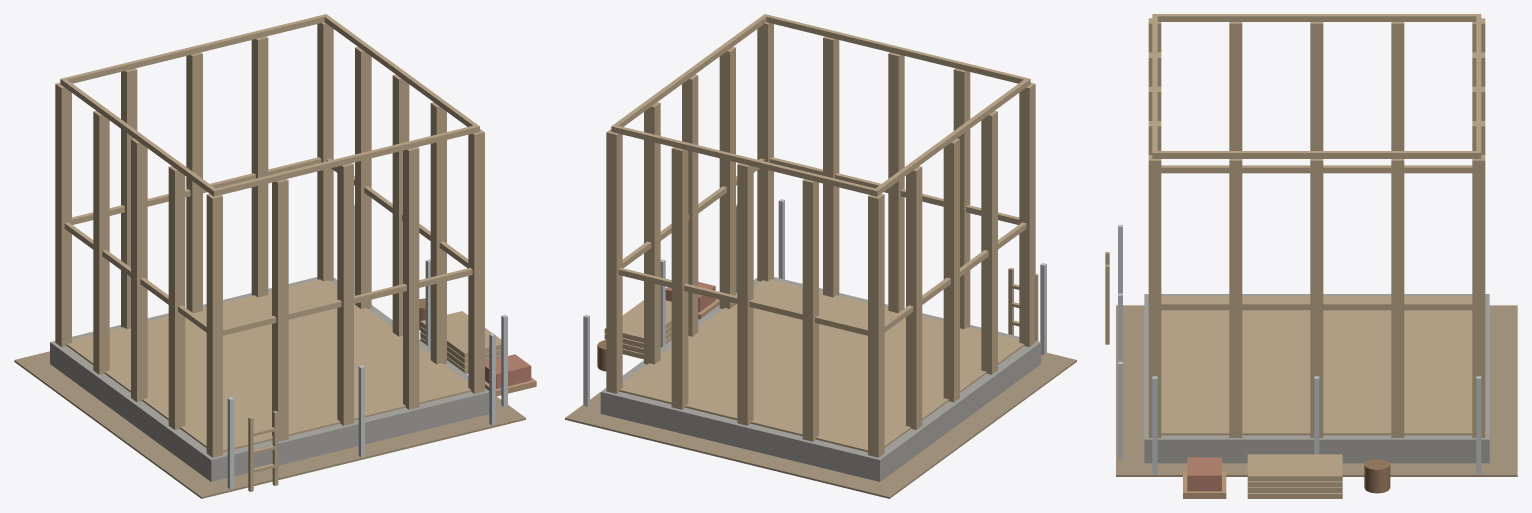
File: feed_mill_site_4.glb
3 renders of one model, left to right at view 1: azimuth 30°, elevation 25°; view 2: azimuth 150°, elevation 25°; view 3: azimuth 270°, elevation 25°, orthographic. The views are drawn at different scales.
Parts seen in each view (by area): view 1: body; view 2: body; view 3: body.
Part boxes in pixels (bbox=[...]): body: bbox=[14, 14, 536, 498]; body: bbox=[565, 14, 1076, 498]; body: bbox=[1105, 14, 1517, 498].
Size of the model in its own units: 2.1 by 1.58 by 1.91.
